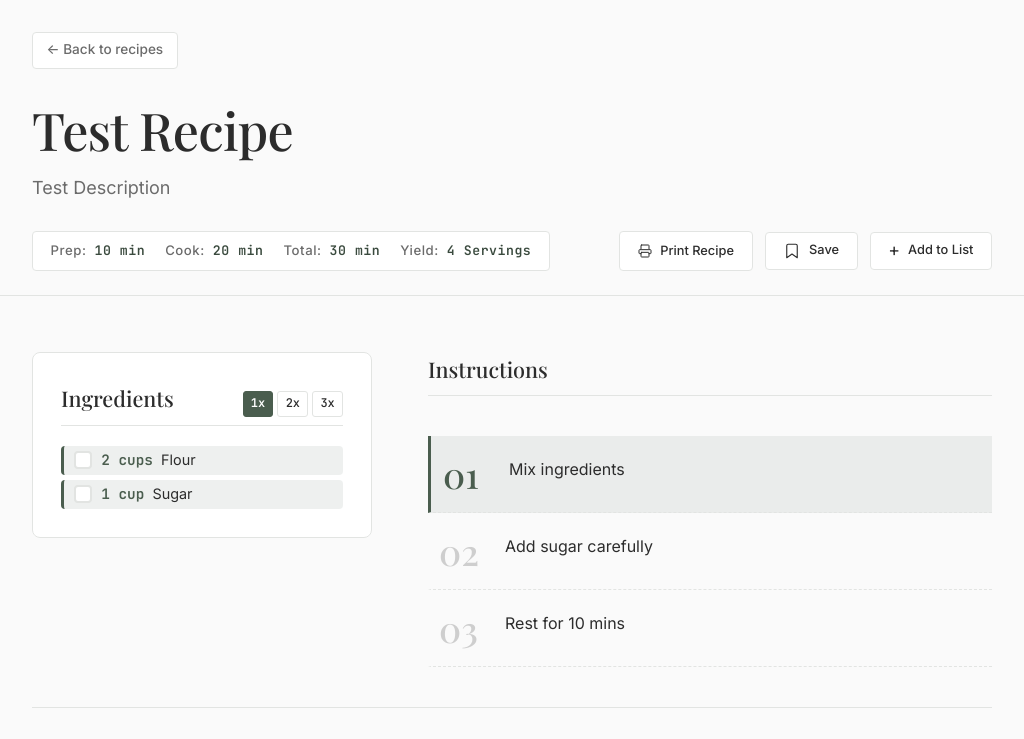
Test: Recipe Page › scales ingredient amounts when scaler buttons are clicked
Expected: the text "2 cups" is shown, [101,450,153,469]
Click 2x button
Click the button "2x": point(293, 404) [277,391,308,417]
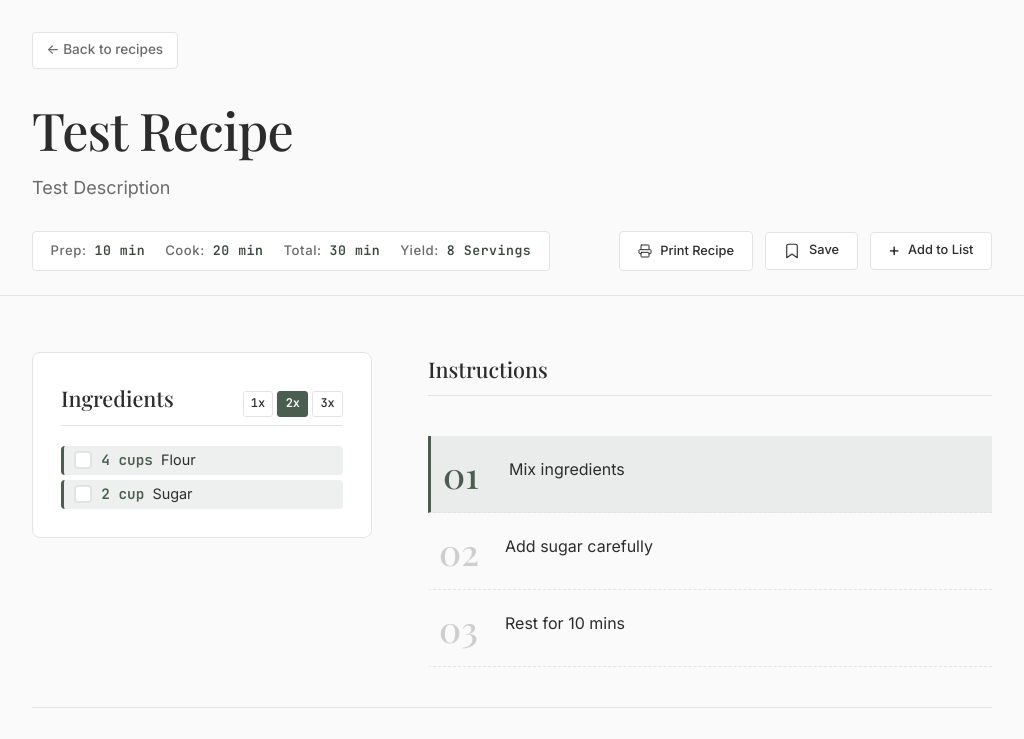
Now the text "4 cups" is shown, box [101,450,153,469]
Now the text "8 Servings" is shown, box [447,242,531,259]
Click 3x button
Click the button "3x": point(328, 404) [312,391,343,417]
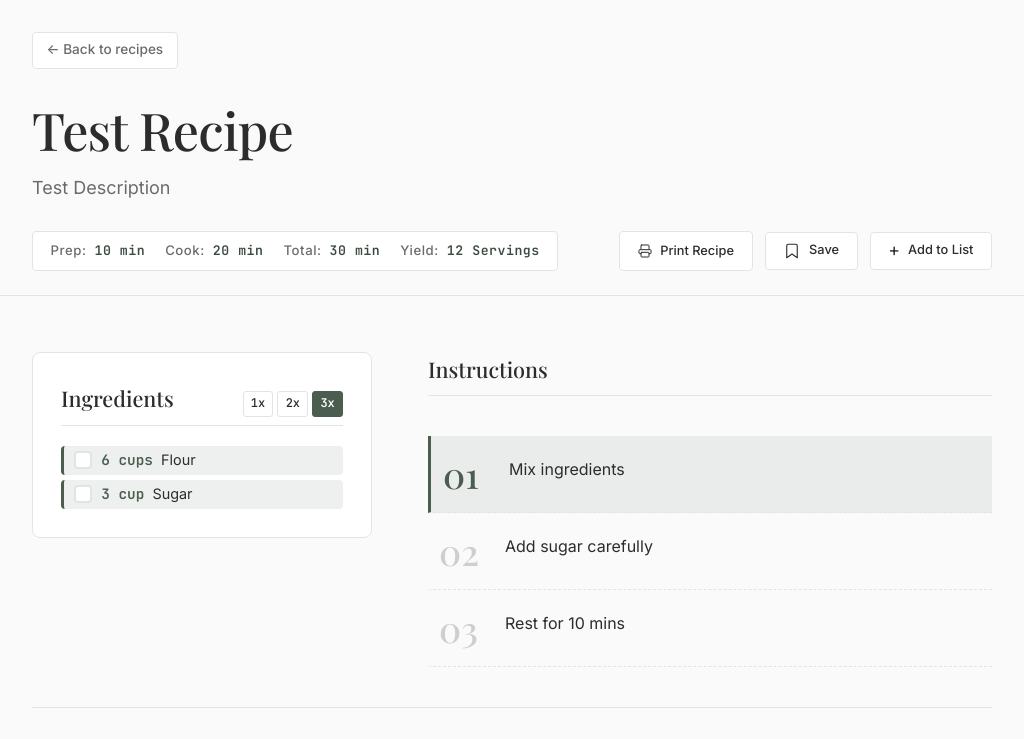
Now the text "6 cups" is shown, box [101,450,153,469]
Now the text "12 Servings" is shown, box [447,242,540,259]
